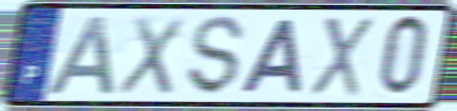0: (376, 11, 433, 102)
A: (43, 13, 119, 97), (236, 17, 305, 96)
S: (186, 14, 248, 98)
X: (114, 14, 187, 98), (307, 14, 375, 99)
